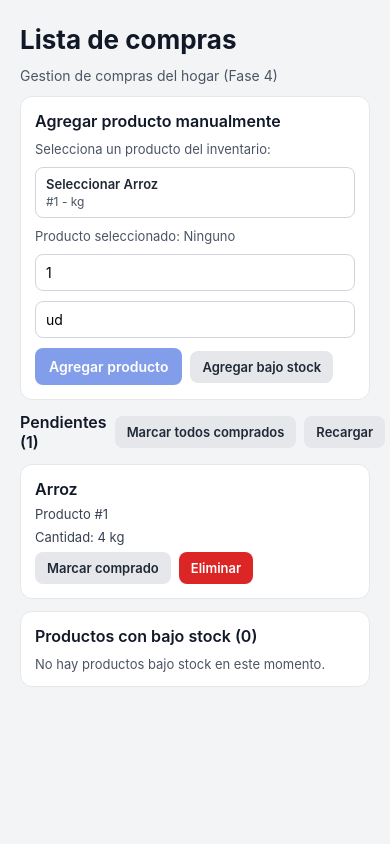
ShoppingListScreen › marca un item como comprado y lo remueve del listado
Expected: the text "Arroz" is shown, [35,479,78,499]
Click the element showing "Marcar comprado".
click(103, 568)  # box [35,552,171,584]
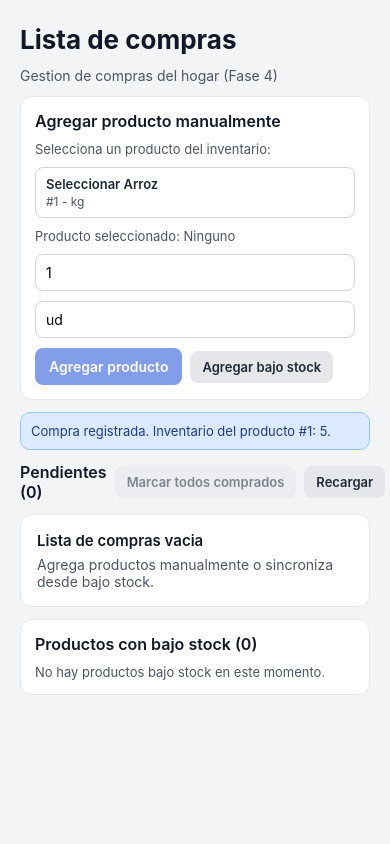
Expected: the text "Lista de compras vacia" is shown, [37,531,203,550]
